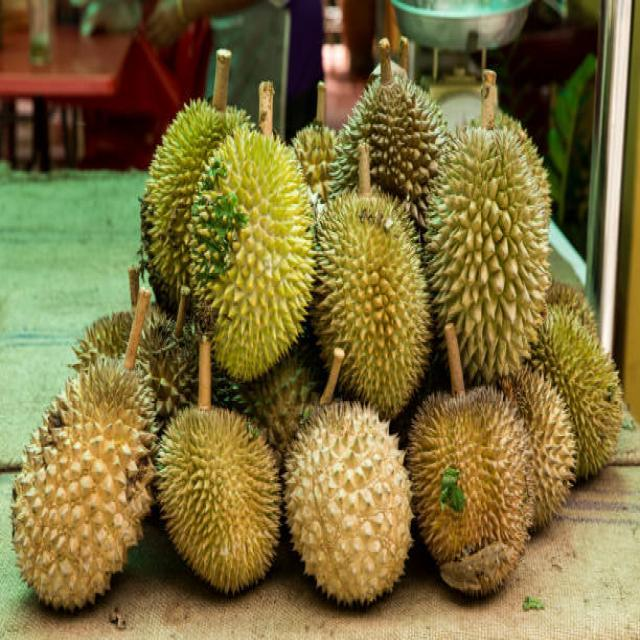mature: (12, 358, 155, 610), (406, 386, 532, 596), (286, 401, 411, 603), (501, 366, 576, 528)
